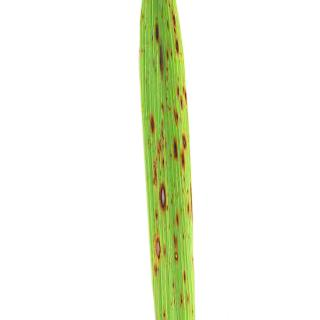Bercak-Cokelat-Sempit: (153, 22, 167, 86), (171, 130, 189, 174), (171, 206, 183, 266), (174, 81, 188, 115), (160, 181, 170, 216), (148, 112, 156, 134)
